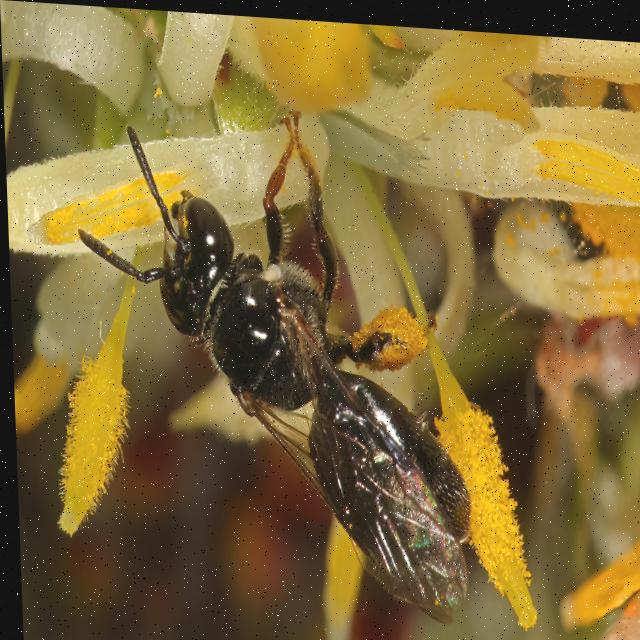Braunsapis: (75, 121, 529, 640)
